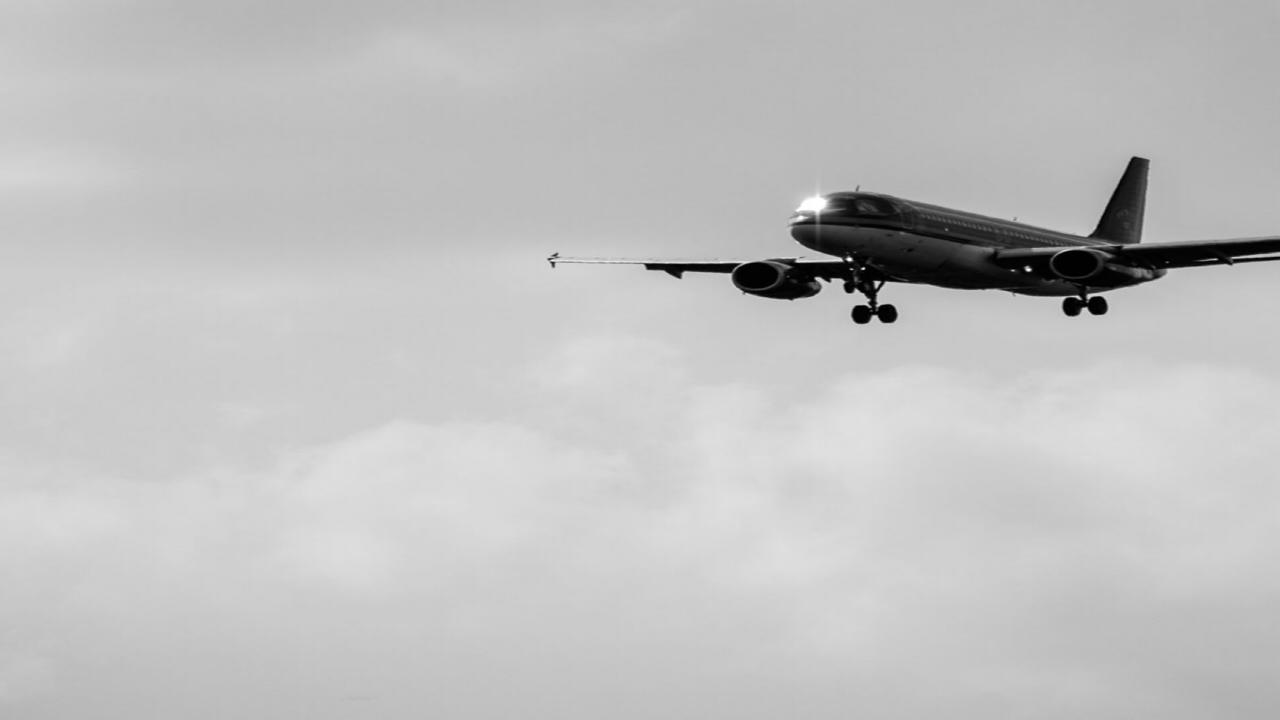Airplane: (527, 148, 1280, 342)
